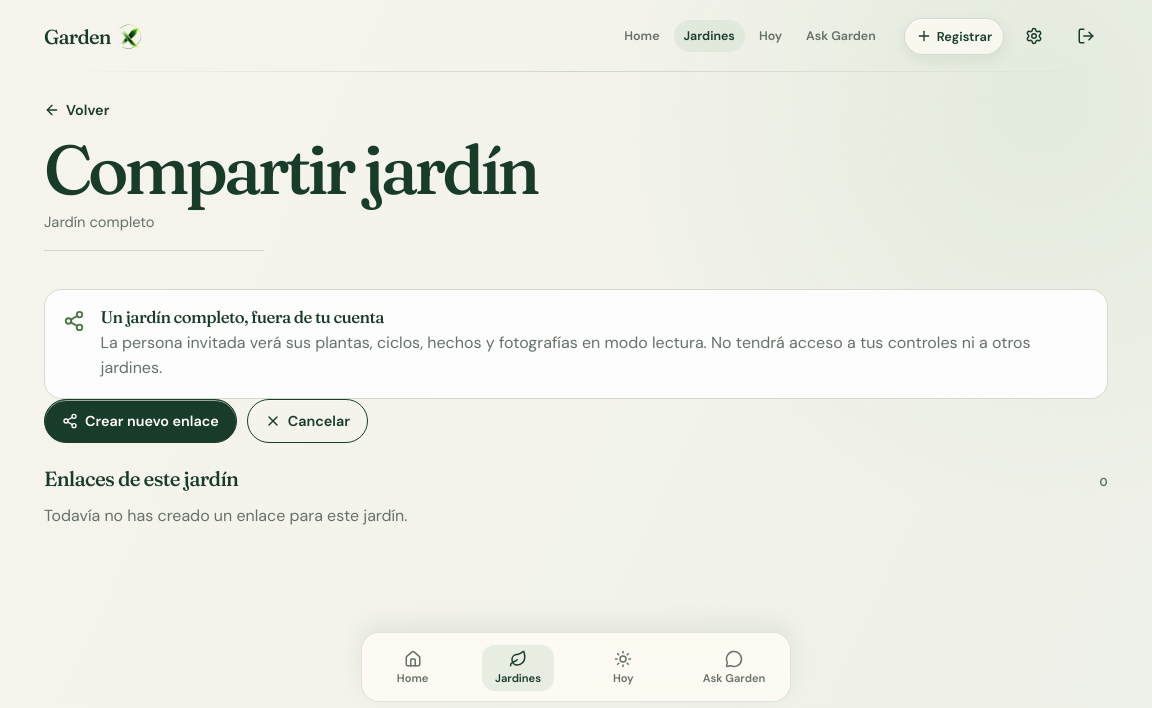
Test: Guest Garden Story › creates and revokes a complete-garden link
Step 1. Click the button "Crear nuevo enlace" → [140, 421], box [44, 399, 237, 443]
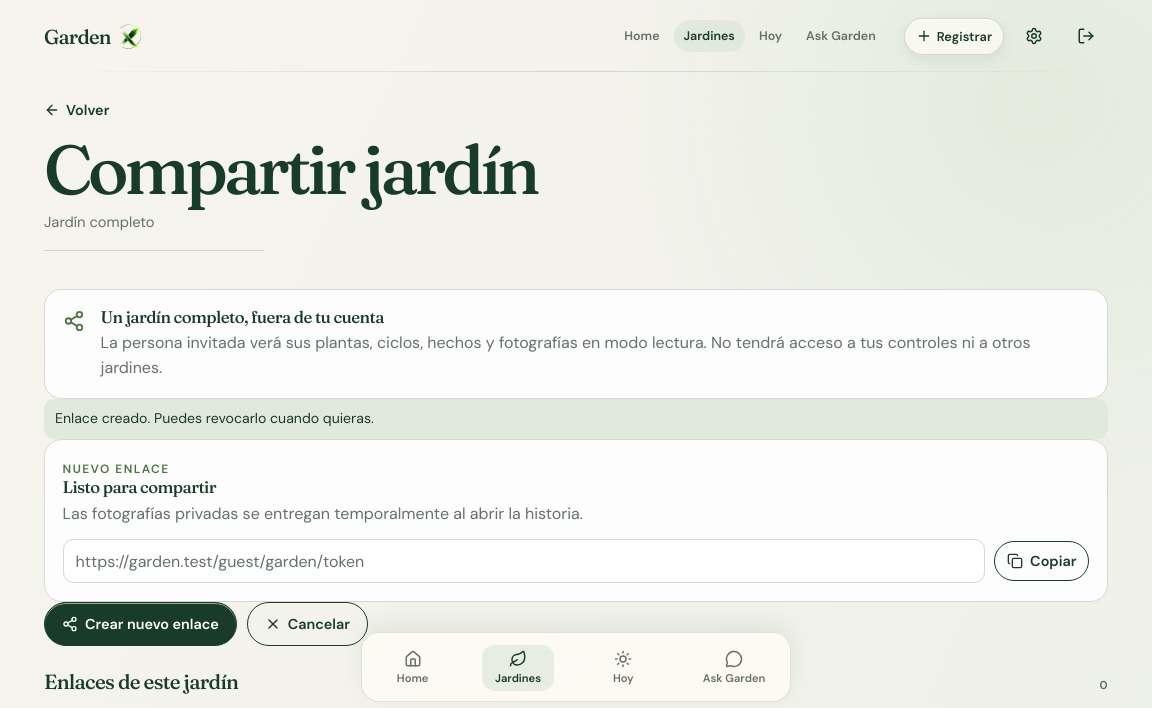
Expected: the field showing "https://garden.test/guest/garden/token" is shown, [63, 539, 985, 583]
